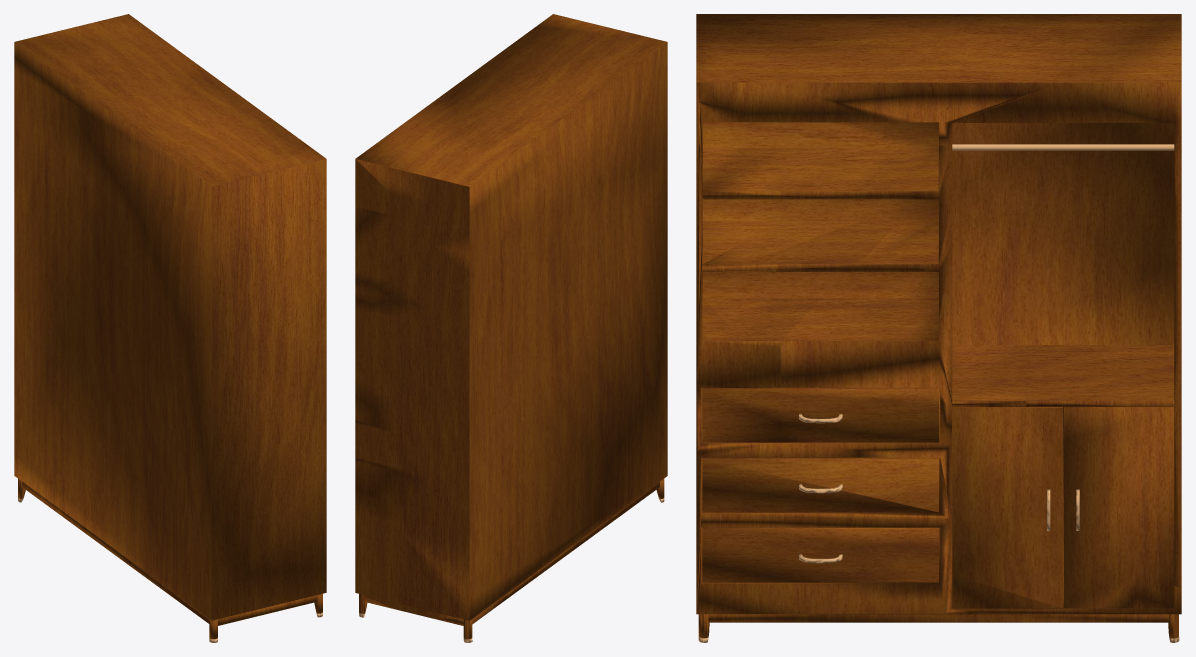
Rendered from 3d-wooden-cabinet.glb.
3 views of the same model, side by side, from view 1: azimuth 30°, elevation 25°; view 2: azimuth 150°, elevation 25°; view 3: azimuth 270°, elevation 25° (orthographic). The views are drawn at different scales.
Parts seen in each view (by area): view 1: DRVO-material; view 2: DRVO-material; view 3: DRVO-material, METAL-material.
Part boxes in pixels (bbox=[...]): DRVO-material: bbox=[14, 14, 326, 639]; DRVO-material: bbox=[355, 14, 667, 639]; DRVO-material: bbox=[696, 14, 1181, 638]; METAL-material: bbox=[698, 144, 1179, 642].
Bounding box in the file's own units: 0.6225 × 2.18 × 1.71.
Materials: 2 (1 with a texture image).
